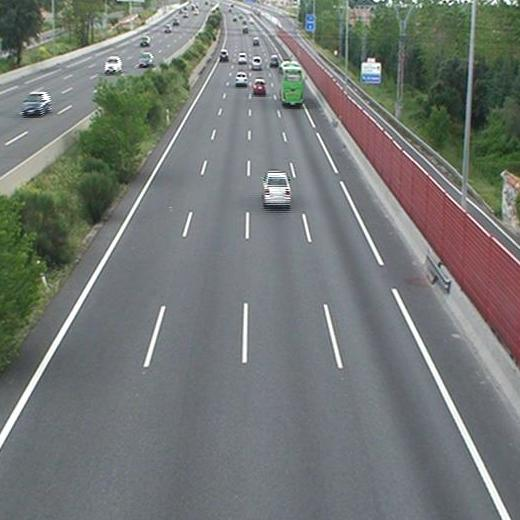bus: (281, 61, 305, 105)
car: (262, 172, 292, 205), (253, 80, 266, 94), (251, 57, 263, 70), (236, 72, 247, 84), (269, 55, 279, 67), (237, 52, 247, 63), (219, 50, 229, 60)
